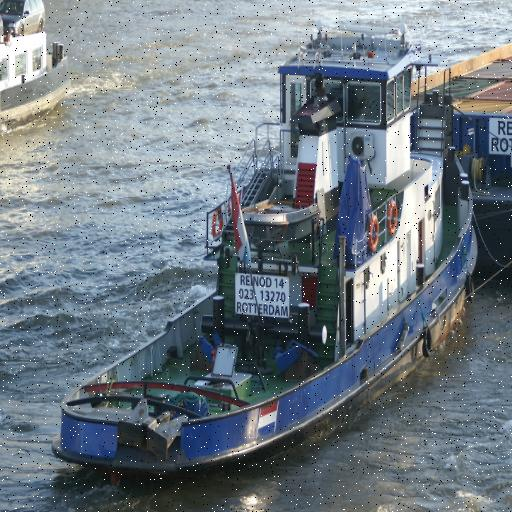tugboat: (48, 16, 485, 493)
